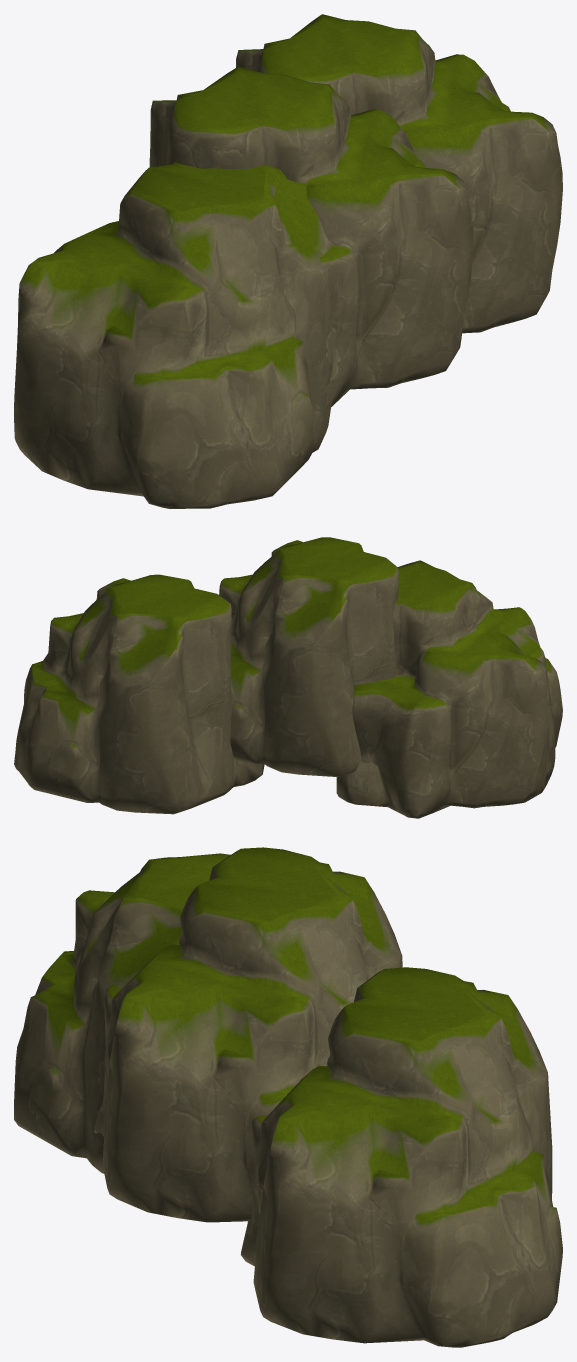
File: SM_RockMoss_V01.fbx
The picture shows the model from 3 angles, top to bottom: view 1: azimuth 30°, elevation 25°; view 2: azimuth 150°, elevation 25°; view 3: azimuth 270°, elevation 25°; orthographic projection. The views are drawn at different scales.
Parts seen in each view (by area): view 1: SM_RockMoss01, SM_RockMoss03, SM_RockMoss02; view 2: SM_RockMoss02, SM_RockMoss01, SM_RockMoss03; view 3: SM_RockMoss02, SM_RockMoss03, SM_RockMoss01.
Part boxes in pixels (<box>): SM_RockMoss01: <box>14,162,332,508</box>; SM_RockMoss03: <box>149,66,473,410</box>; SM_RockMoss02: <box>236,14,562,333</box>; SM_RockMoss02: <box>14,574,264,814</box>; SM_RockMoss01: <box>336,560,562,818</box>; SM_RockMoss03: <box>219,537,398,776</box>; SM_RockMoss02: <box>240,967,562,1347</box>; SM_RockMoss03: <box>94,847,402,1222</box>; SM_RockMoss01: <box>14,853,230,1173</box>.
Size of the model in its own units: 708 by 321 by 532.
1 material, 1 textured.
